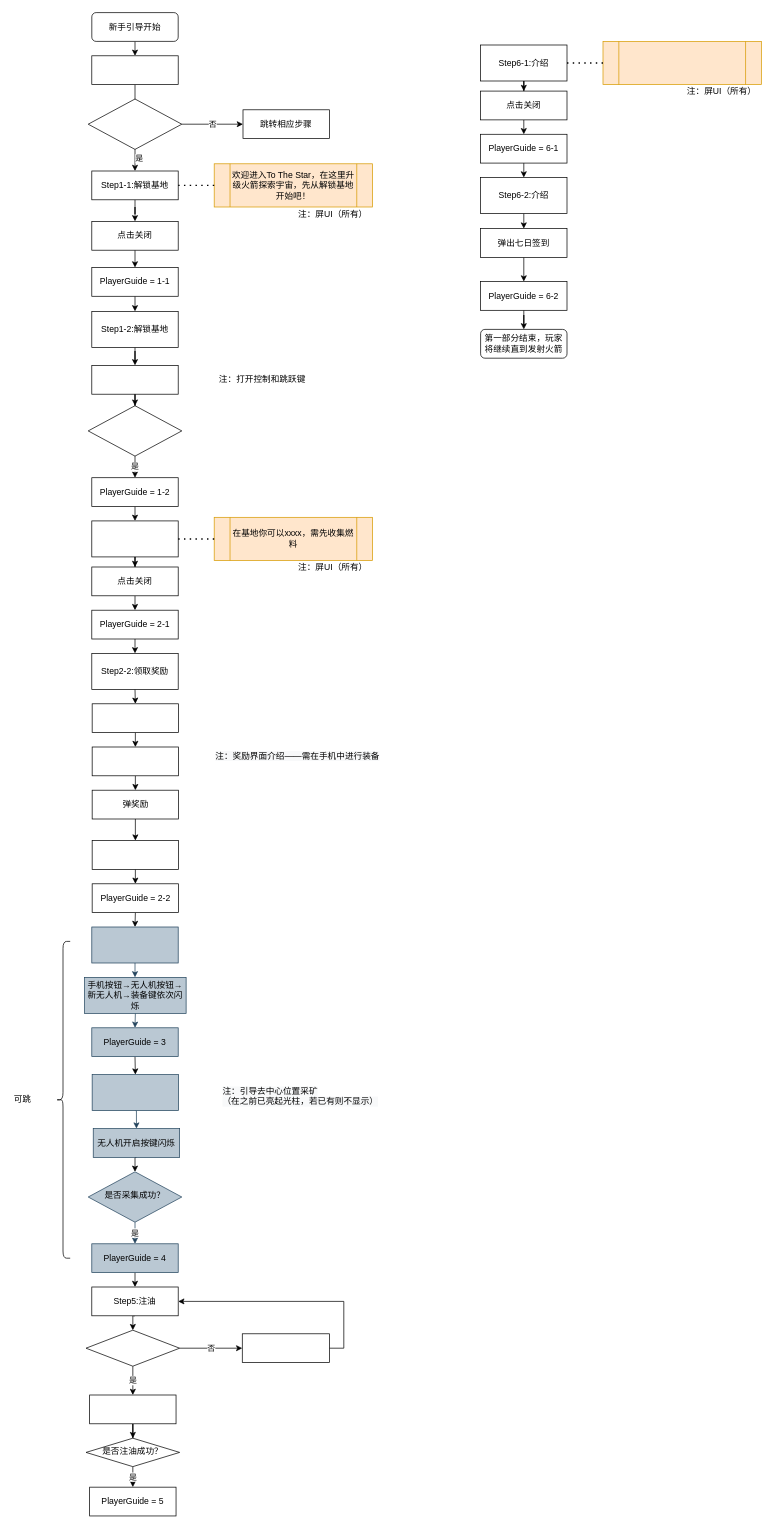
Image size: 774x1529. Some labels were removed from this diagram. Each missing label, with the centre of its shape:
Step2-1:领取奖励: the point at 134,538
Step3:装备无人机: the point at 134,944
Step4:采集: the point at 135,1092
弹出UI（除手机都弹）: the point at 135,761
弹出基础操作: the point at 134,379
当你燃料足够时，可以发射火箭进入太空了: the point at 681,63
是否为新手：PlayerGuide0？: the point at 134,123
是否拥有个人基地？: the point at 132,1347
是否解锁？: the point at 134,430
注油特效光柱: the point at 132,1409
获得无人机*1: the point at 135,854
解锁基地: the point at 285,1348
读取长期存储PlayerGuide: the point at 134,70
转镜头-亮光柱动画: the point at 135,718
